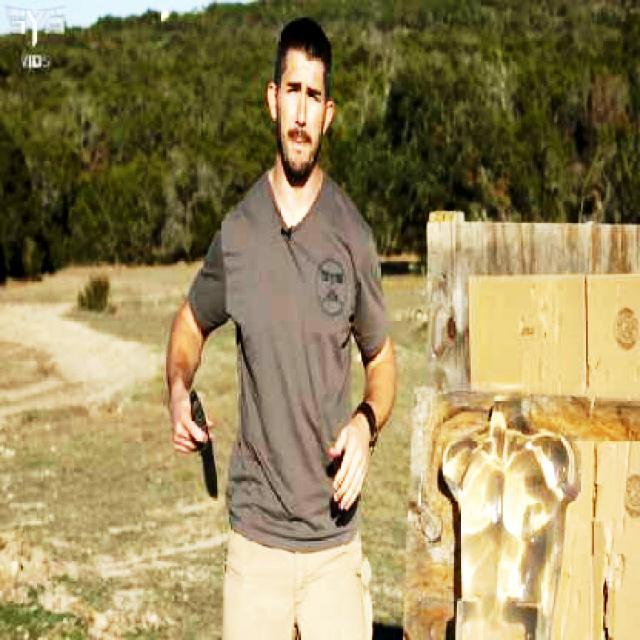Knife: (184, 383, 226, 499)
